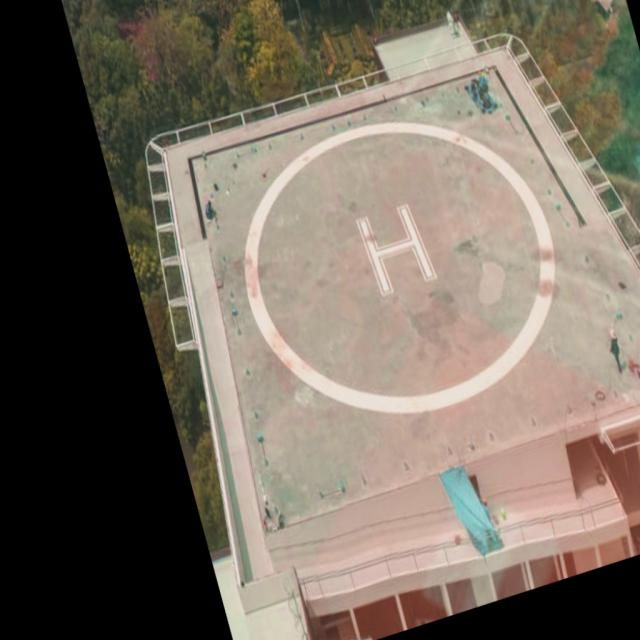helipad: (237, 115, 562, 419)
